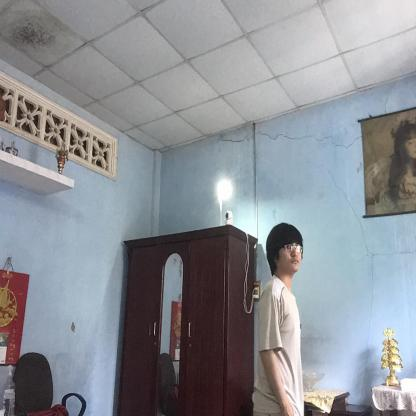person: (252, 221, 310, 416)
